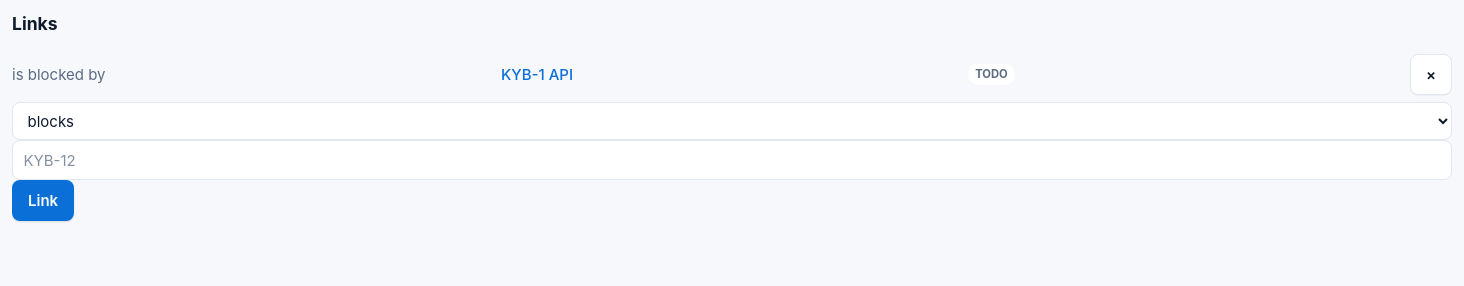
IssueLinks (KYB-S45) › lists links from this issue's side, adds and removes them
Expected: the text "is blocked by" is shown, x1=12 y1=63 x2=106 y2=86
Click the button "KYB-1 API". click: (537, 74)
box: x1=501 y1=58 x2=573 y2=91
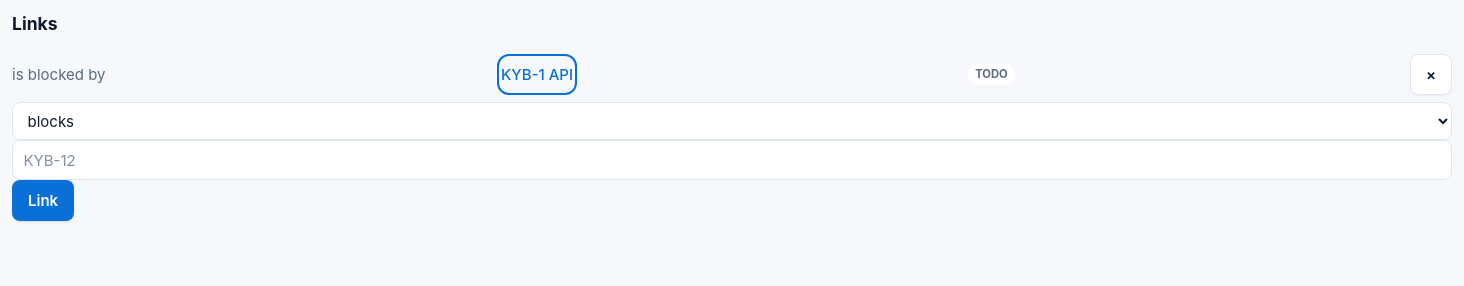
Select "relates to" in the dropdown named "Link type". click: (732, 121)
box: x1=12 y1=102 x2=1452 y2=140
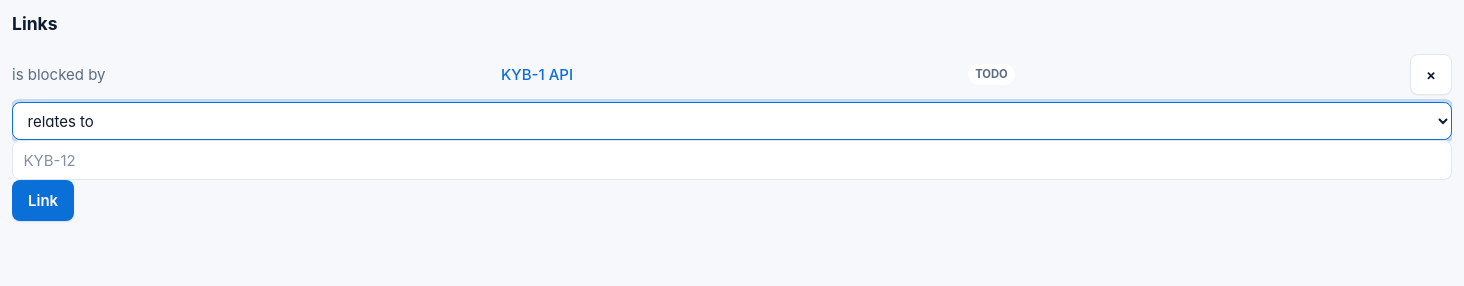
Type "kyb-3" into the field named "Issue key to link". click: (732, 160)
box: x1=12 y1=140 x2=1452 y2=180
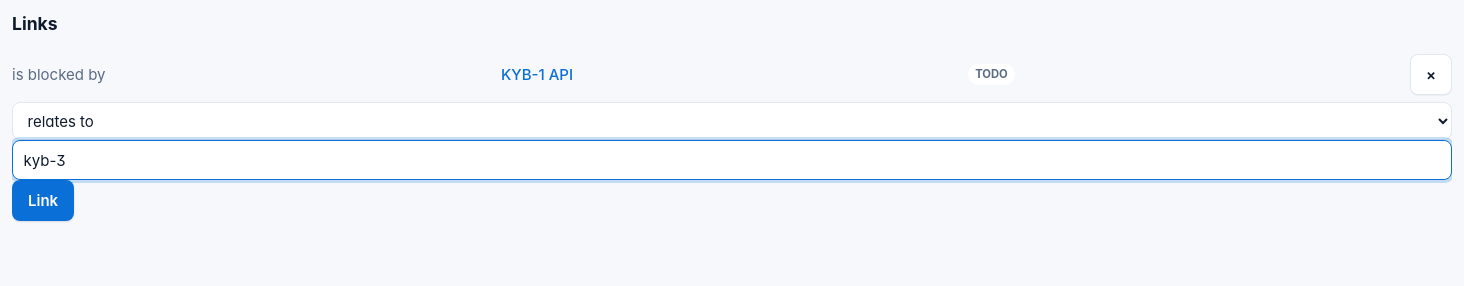
Click the button "Link". click: (43, 200)
box: x1=12 y1=180 x2=74 y2=221
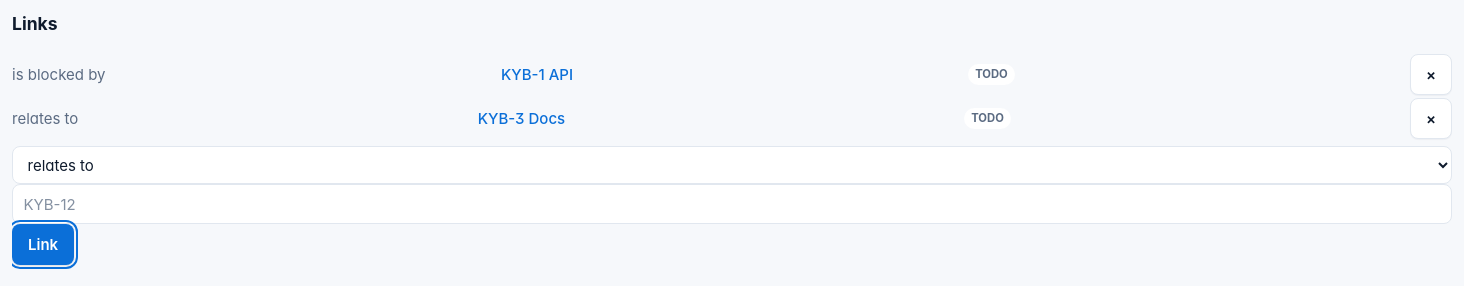
Now the text "relates to" is shown, box x1=12 y1=107 x2=78 y2=130
Click the button named "Remove link to KYB-1". click: (1431, 74)
box: x1=1410 y1=54 x2=1452 y2=95
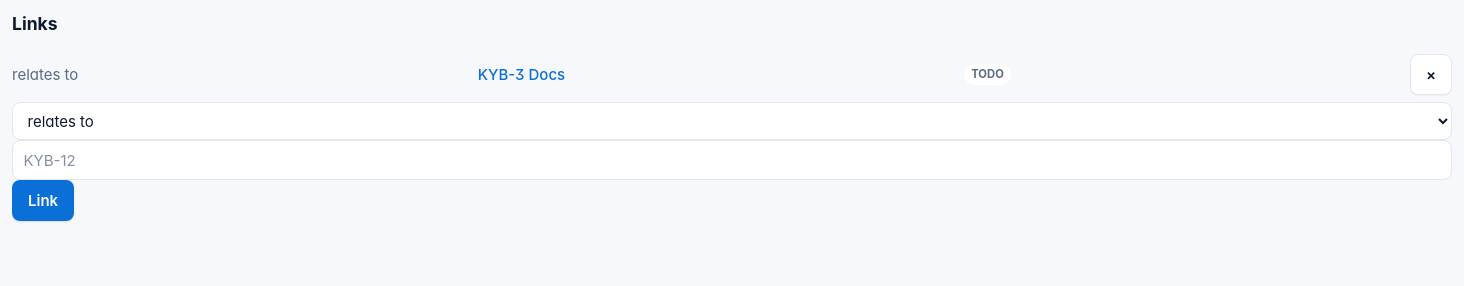
Now the text "is blocked by" is gone
